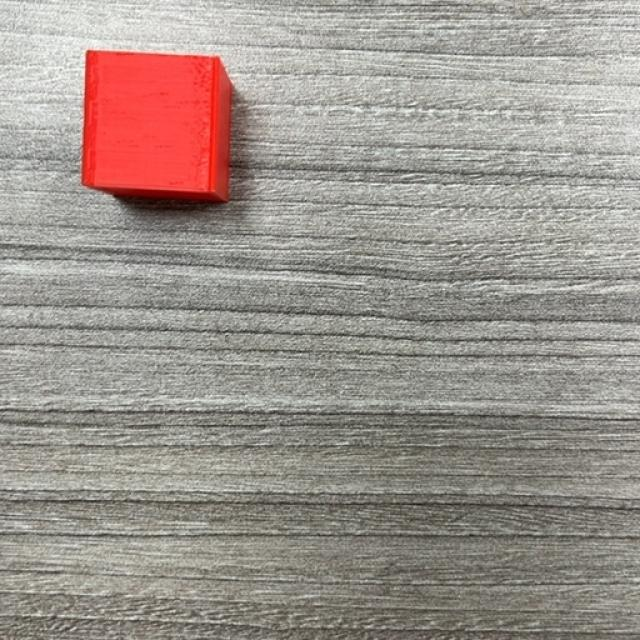Rojo: (80, 50, 234, 205)
